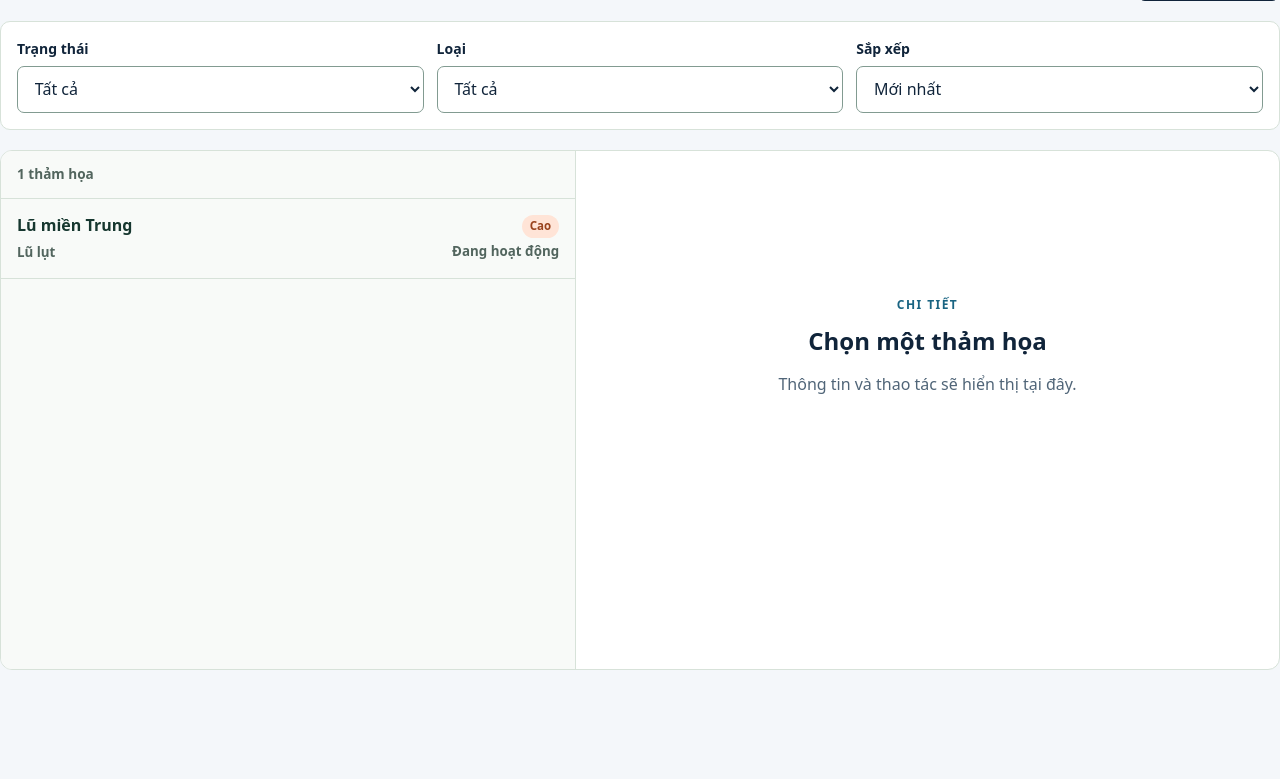
Test: DisasterPage › keeps a 409 visible and refreshes stale detail before another write
Click the button "Lũ miền Trung Lũ lụt Cao Đang hoạt động": click(75, 225) [1,199,575,279]
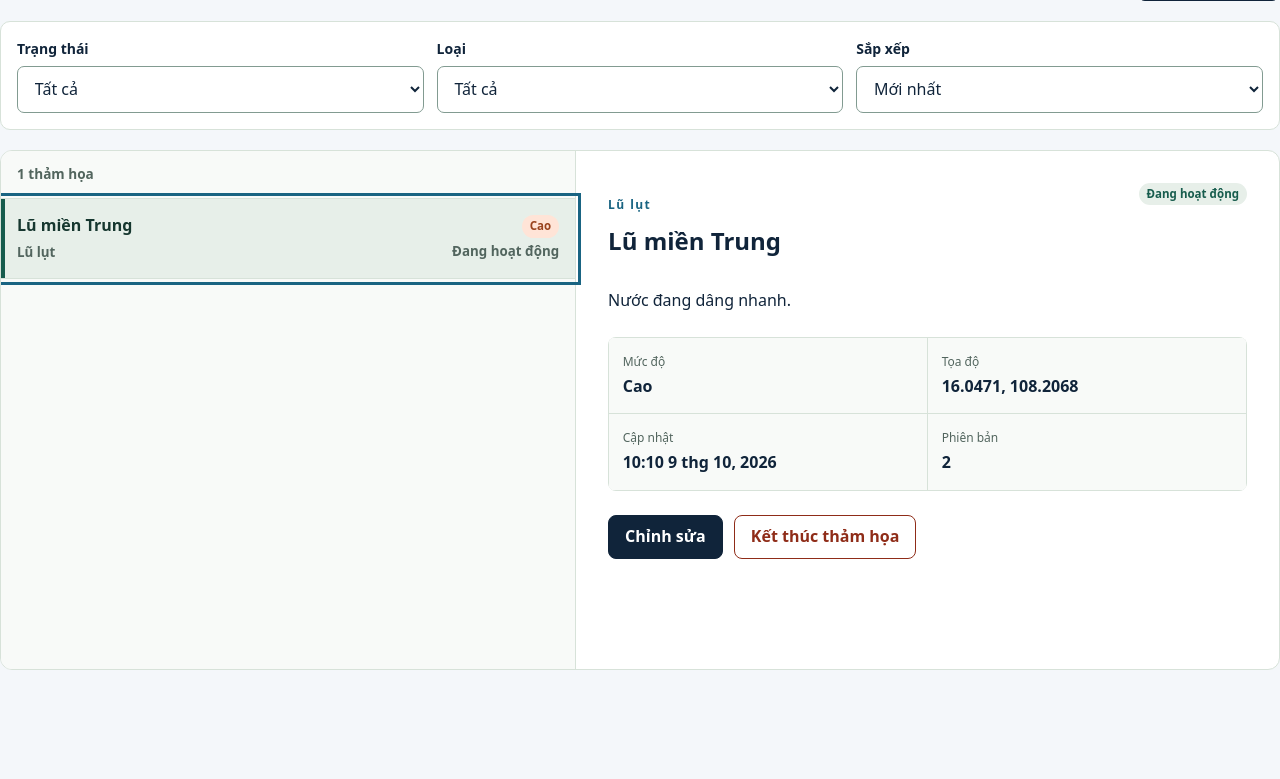
Expected: the heading "Lũ miền Trung" is shown, [608,226,781,256]
Click the button "Chỉnh sửa": click(665, 537) [608,515,723,559]
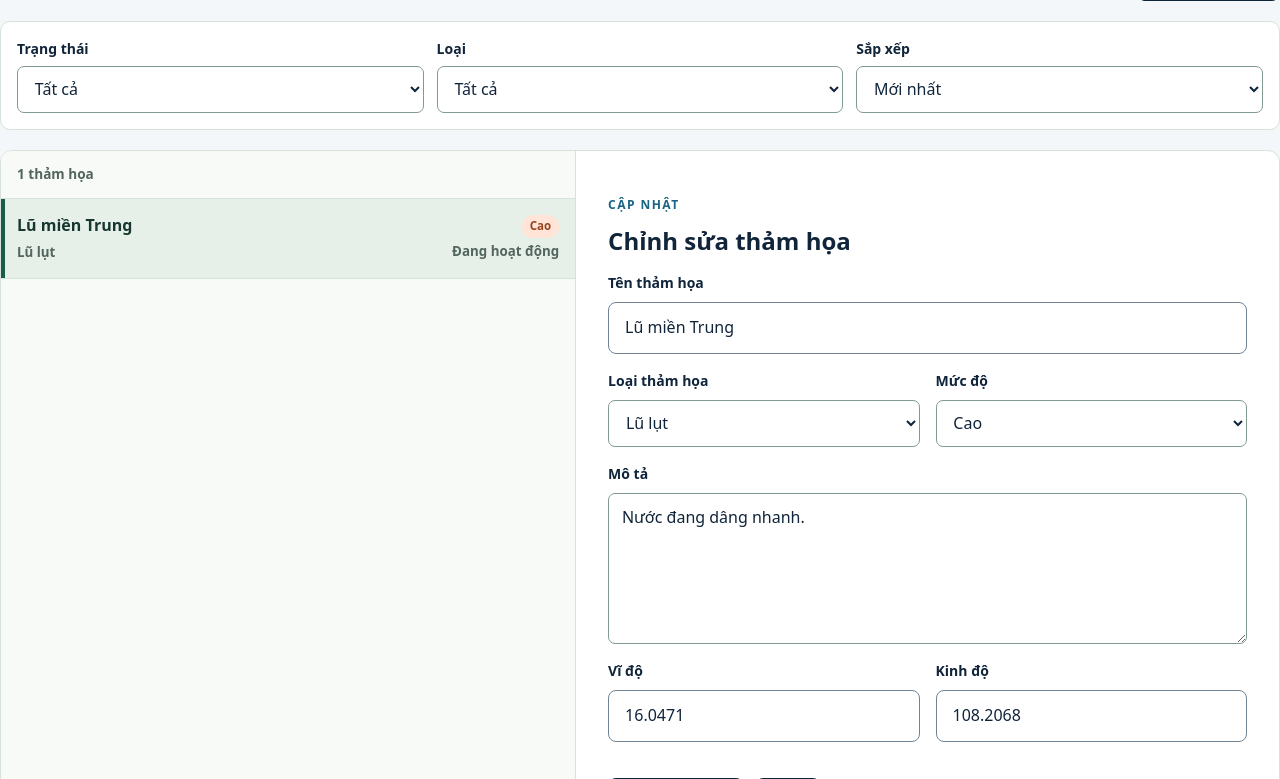
Replace the text in the field labelled "Tên thảm họa" with "Tên do người dùng sửa": (928, 328) [608,302,1247,354]
(page scrolled)
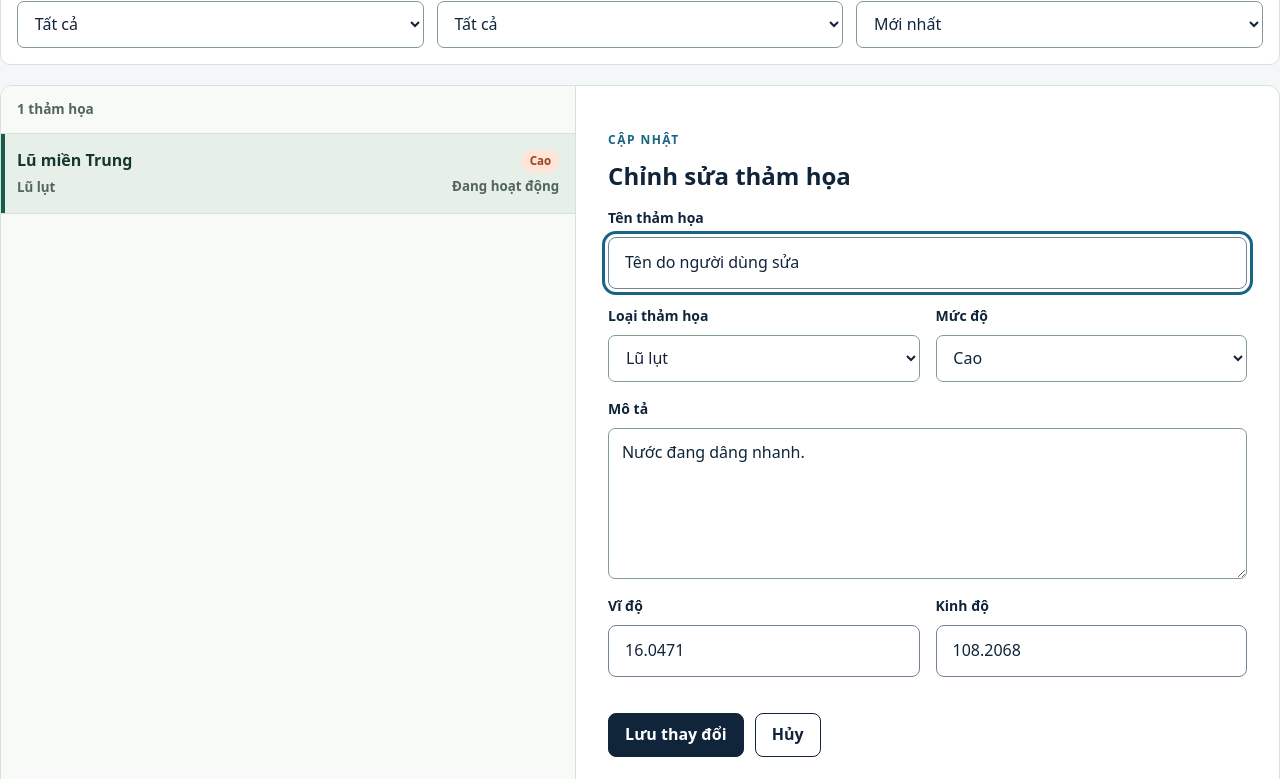
Click the button "Lưu thay đổi": click(676, 735) [608,713,744,757]
(page scrolled)
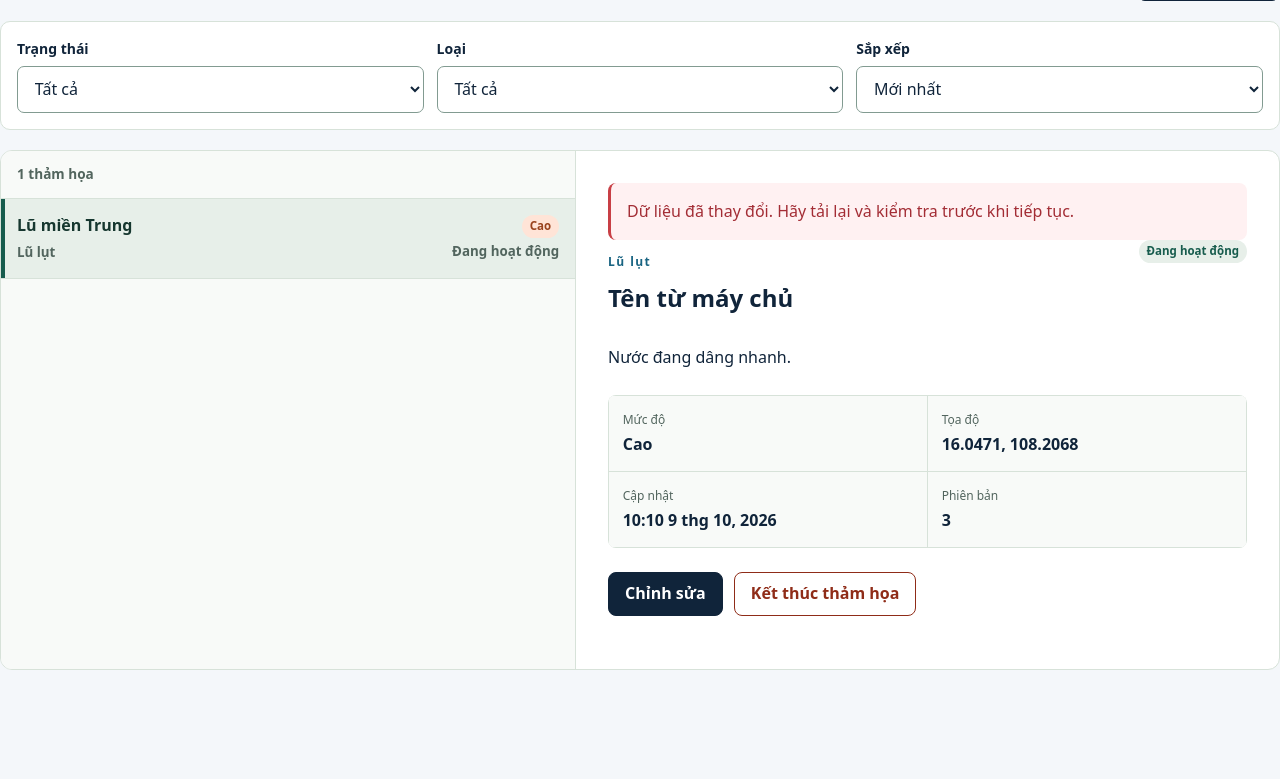
Expected: the message shows "Dữ liệu đã thay đổi", [627,200,1074,222]
Expected: the heading "Tên từ máy chủ" is shown, [608,283,793,313]
